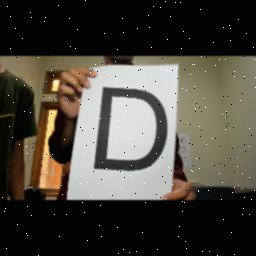d: (92, 84, 170, 176)
